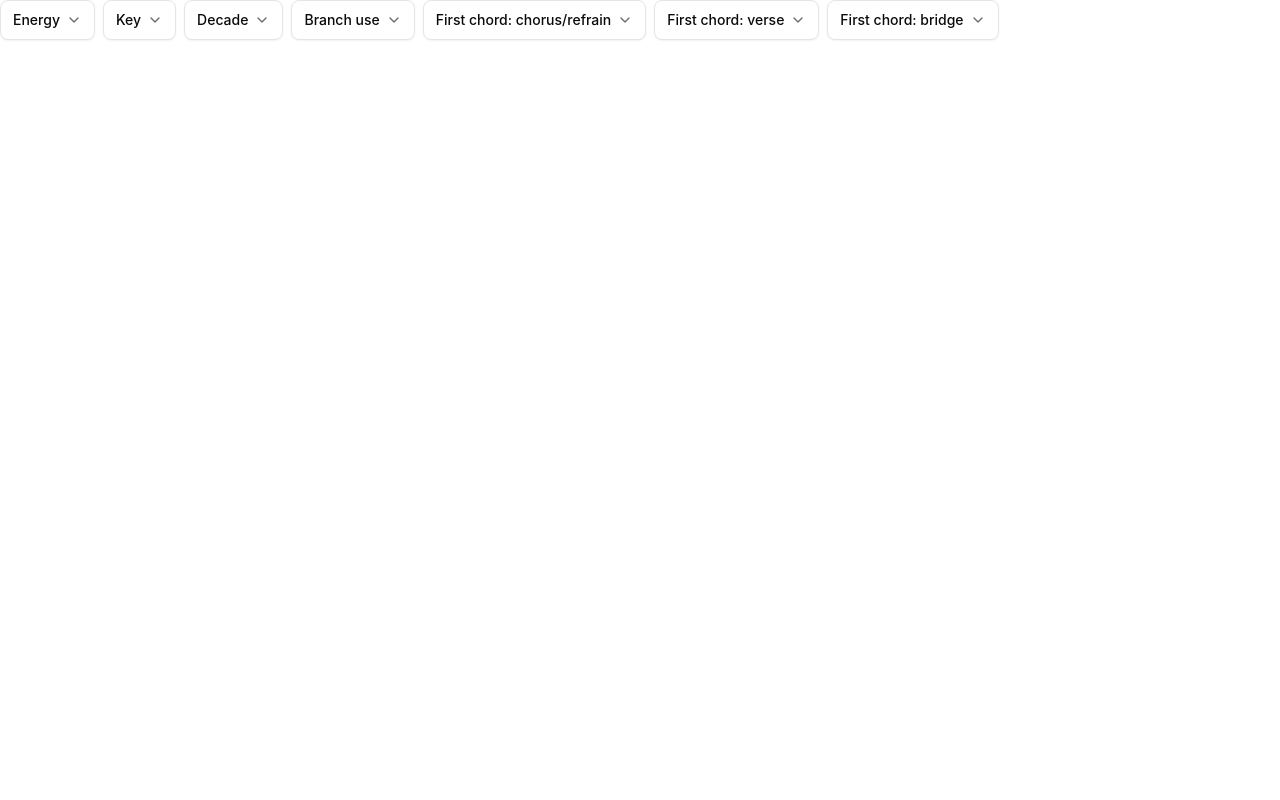
loading, empty and error states › explains empty facets inside each dropdown
This screenshot has width=1280, height=800.
Click the button "Key" at (140, 20), box [103,0,176,40]
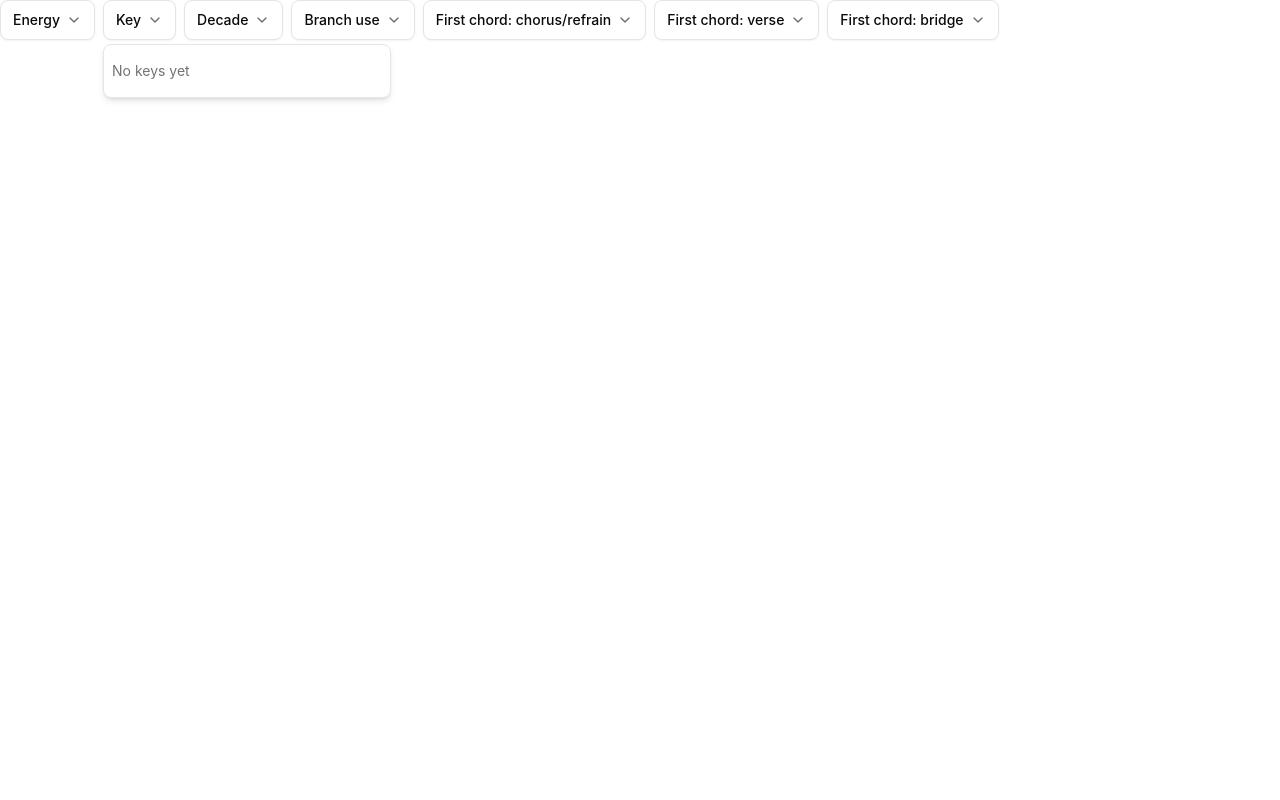
Expected: the text "No keys yet" is shown, [112,62,190,79]
Press Escape
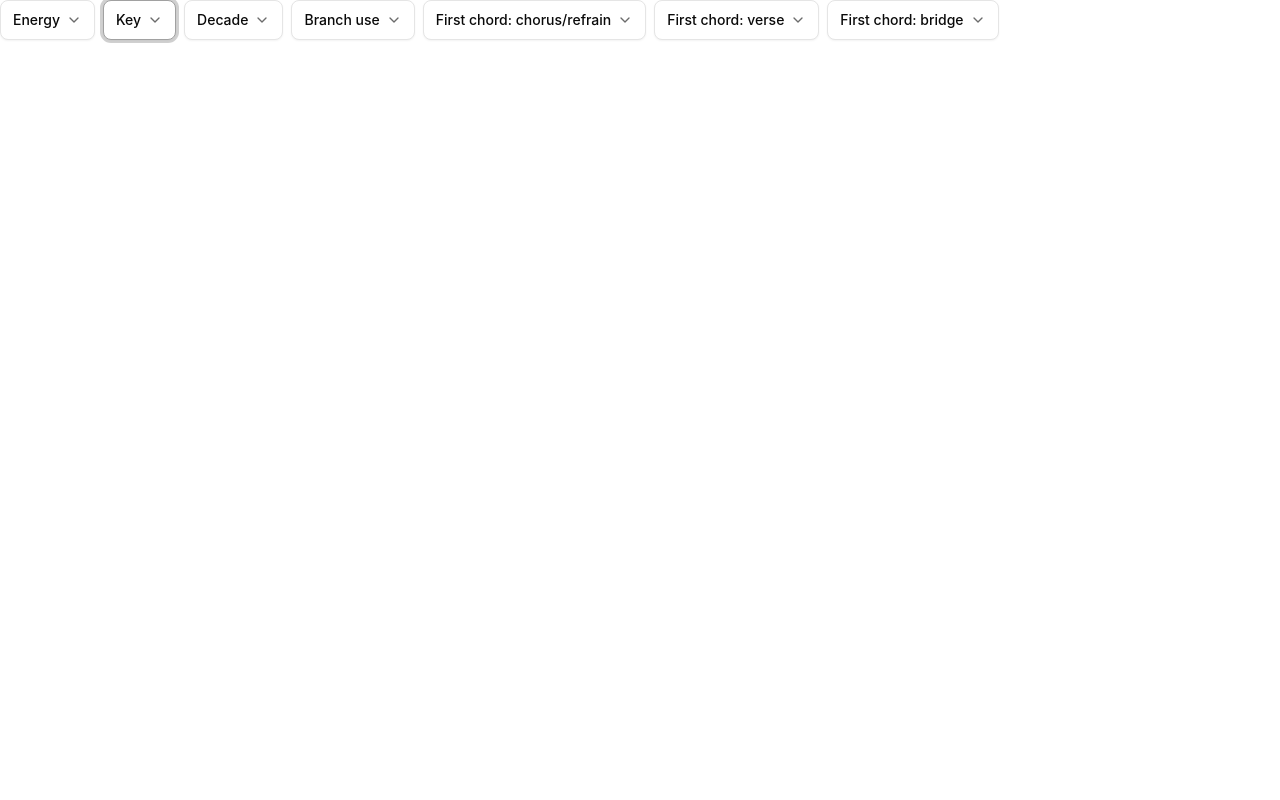
Click the button "Branch use" at (353, 20), box [291,0,415,40]
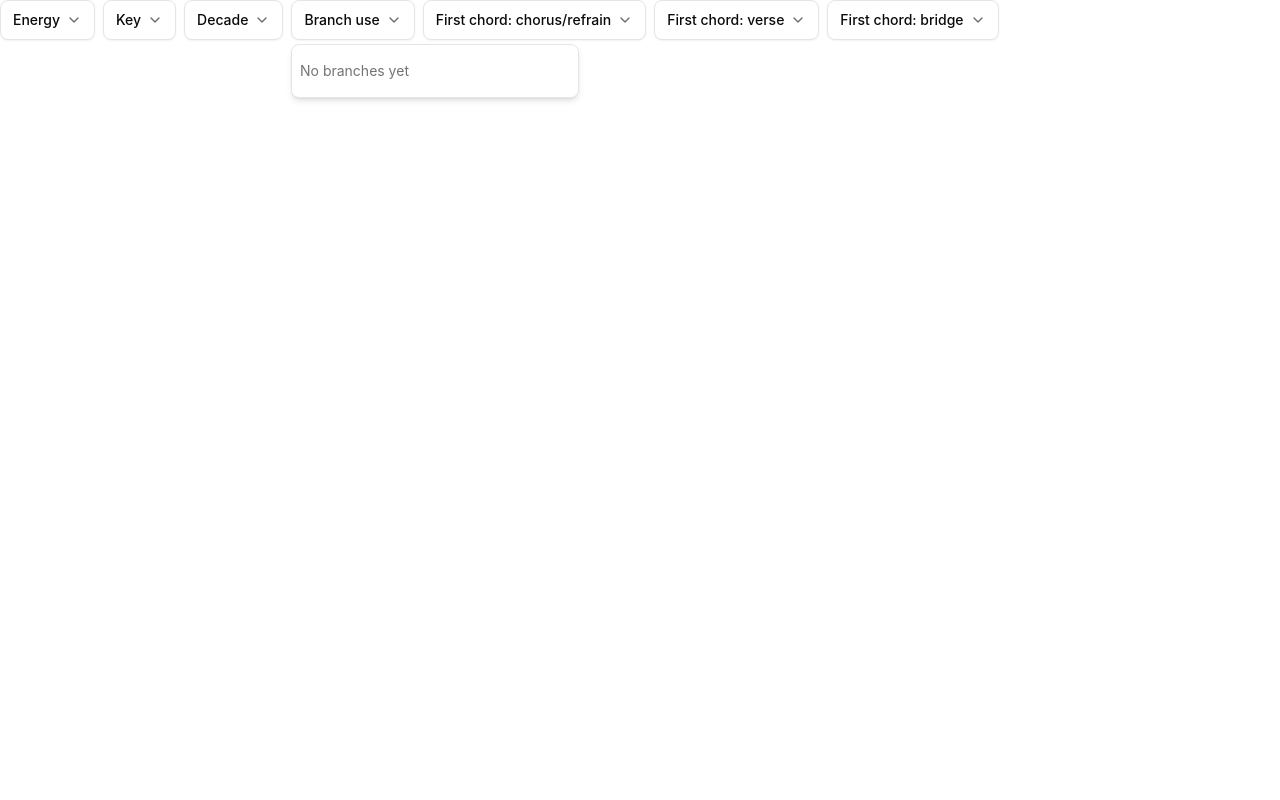
Expected: the text "No branches yet" is shown, [300,62,409,79]
